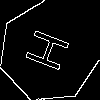H: (24, 26, 79, 77)
